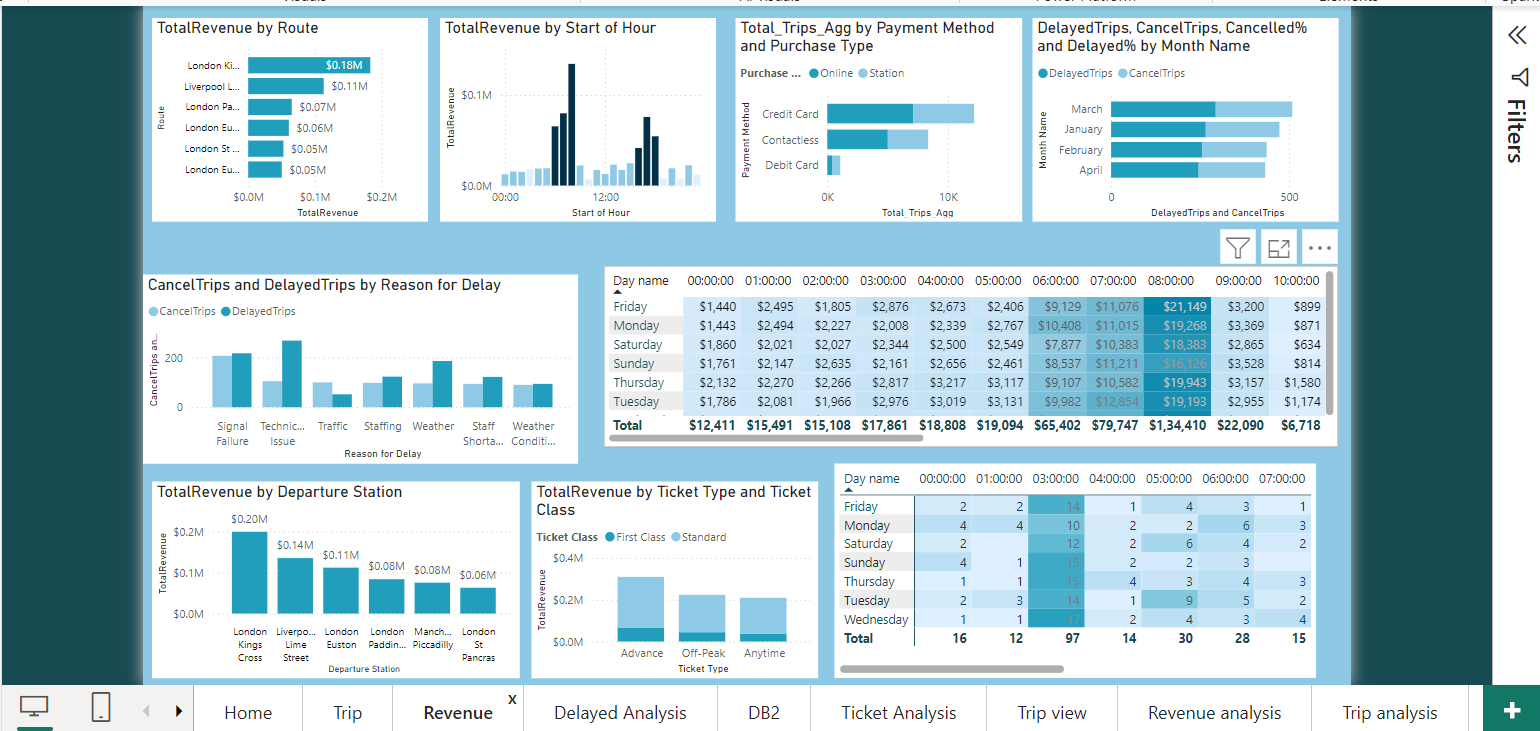

The page's visual inventory and layout, read from the dashboard file:
{"tool":"powerbi","page":{"name":"Revenue","canvas":[1280,720],"ordinal":2},"visuals":[{"type":"barChart","fields":{"Category":["Railway.Route"],"Y":["_Measures.TotalRevenue"]},"box":[9.5,12.7,292.7,216.3],"z":0},{"type":"columnChart","fields":{"Category":["Railway.Start of Hour"],"Y":["_Measures.TotalRevenue"]},"box":[314.9,12.7,292.7,216.3],"z":1000},{"type":"columnChart","fields":{"Category":["Railway.Departure Station"],"Y":["_Measures.TotalRevenue"]},"box":[9.5,504.2,389.7,208.4],"z":2000},{"type":"pivotTable","fields":{"Rows":["Railway.Day name"],"Values":["_Measures.TotalRevenue"],"Columns":["Railway.Start of Hour"]},"box":[488.3,275.2,779.4,192.5],"z":3000},{"type":"clusteredColumnChart","fields":{"Category":["Railway.Reason for Delay"],"Y":["_Measures.CancelTrips","_Measures.DelayedTrips"]},"box":[0,284.7,461.3,200.4],"z":4000},{"type":"columnChart","fields":{"Category":["Railway.Ticket Type"],"Y":["_Measures.TotalRevenue"],"Series":["Railway.Ticket Class"]},"box":[412,504.2,303.8,208.4],"z":5000},{"type":"barChart","fields":{"Category":["Railway.Payment Method"],"Y":["_Measures.Total_Trips_Agg"],"Series":["Railway.Purchase Type"]},"box":[628.3,12.7,303.8,216.3],"z":6000},{"type":"pivotTable","fields":{"Values":["_Measures.DelayedTrips"],"Columns":["Railway.Start of Hour"],"Rows":["Railway.Day name"]},"box":[733.3,485.1,510.6,227.5],"z":7000},{"type":"barChart","fields":{"Category":["Railway.Month Name"],"Y":["_Measures.DelayedTrips","_Measures.CancelTrips"]},"box":[943.2,12.7,324.5,216.3],"z":8000}]}

Visuals, with their boxes on the page's 1280x720 design canvas (x1, y1, x2, y2). These are canvas units, not pixel positions in the 1540x731 screenshot, which may show the page scaled, cropped or inside an application window:
barChart - Railway.Route x _Measures.TotalRevenue: x1=10, y1=13, x2=302, y2=229
columnChart - Railway.Start of Hour x _Measures.TotalRevenue: x1=315, y1=13, x2=608, y2=229
columnChart - Railway.Departure Station x _Measures.TotalRevenue: x1=10, y1=504, x2=399, y2=713
pivotTable - Railway.Day name x _Measures.TotalRevenue: x1=488, y1=275, x2=1268, y2=468
clusteredColumnChart - Railway.Reason for Delay x _Measures.CancelTrips: x1=0, y1=285, x2=461, y2=485
columnChart - Railway.Ticket Type x _Measures.TotalRevenue: x1=412, y1=504, x2=716, y2=713
barChart - Railway.Payment Method x _Measures.Total_Trips_Agg: x1=628, y1=13, x2=932, y2=229
pivotTable - _Measures.DelayedTrips x Railway.Start of Hour: x1=733, y1=485, x2=1244, y2=713
barChart - Railway.Month Name x _Measures.DelayedTrips: x1=943, y1=13, x2=1268, y2=229
